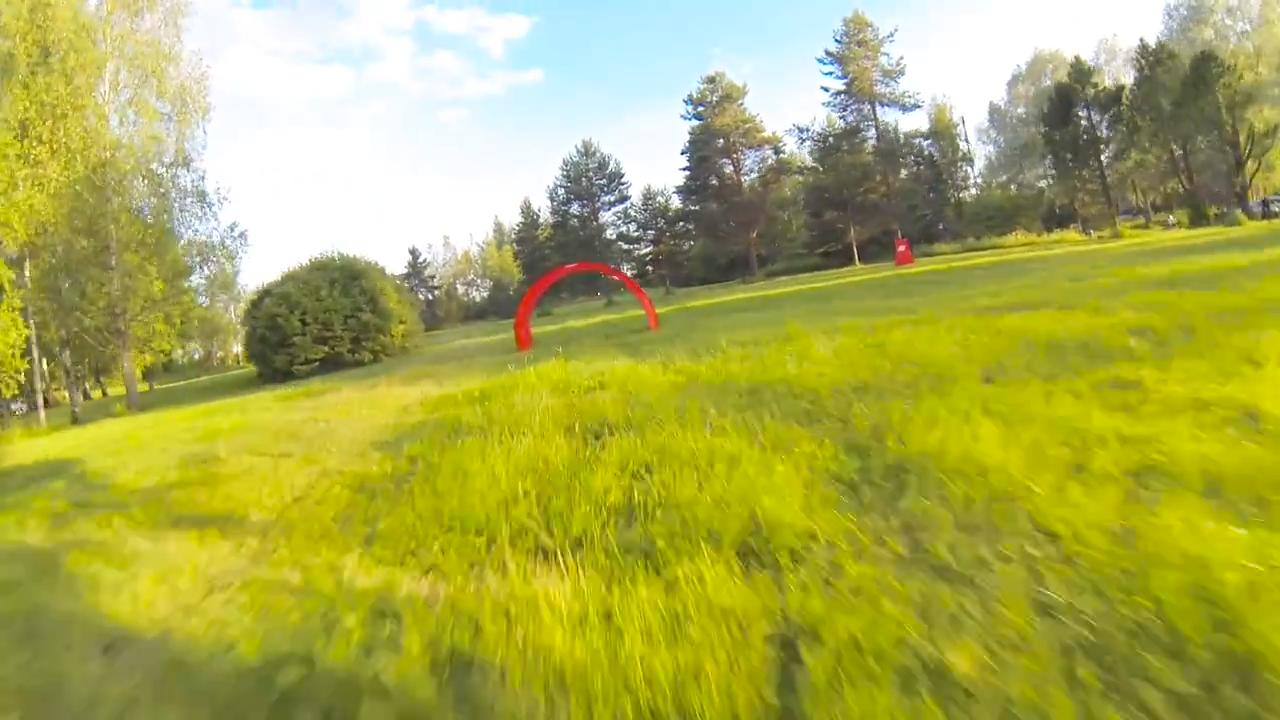gate: (508, 260, 663, 353)
